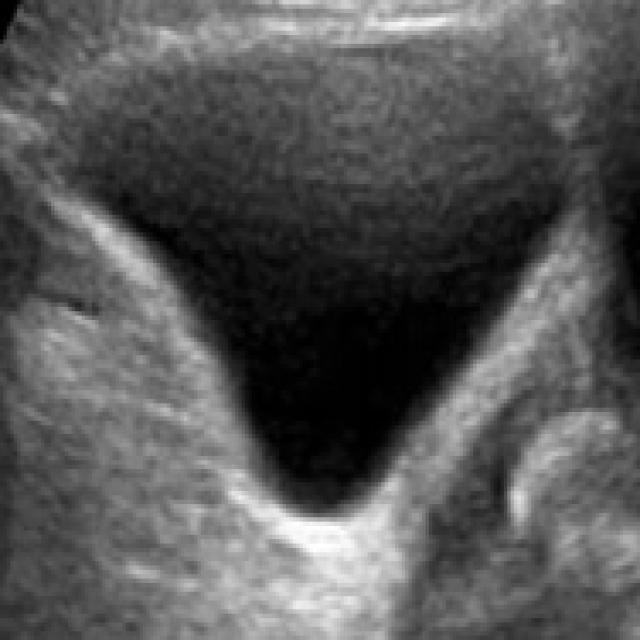bladder: (22, 11, 594, 602)
